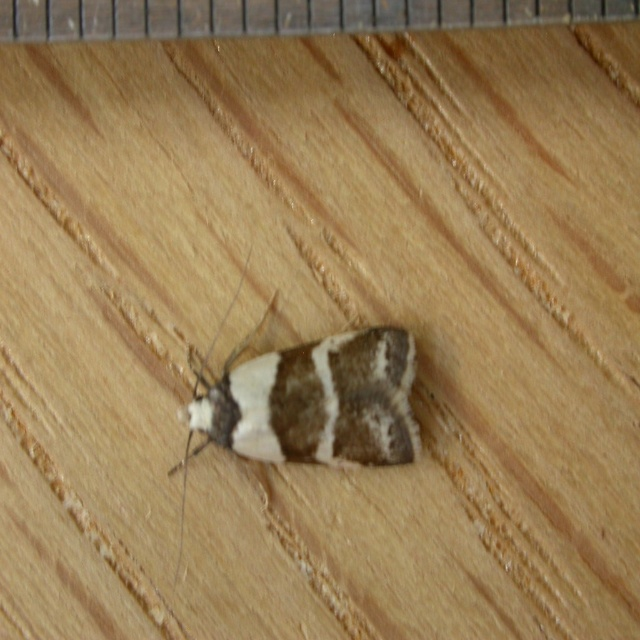Moths and butterflies: (162, 235, 423, 612)
